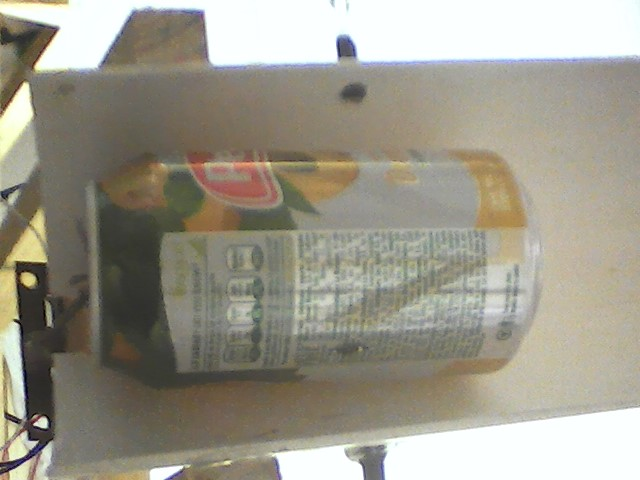lata: (73, 143, 551, 394)
